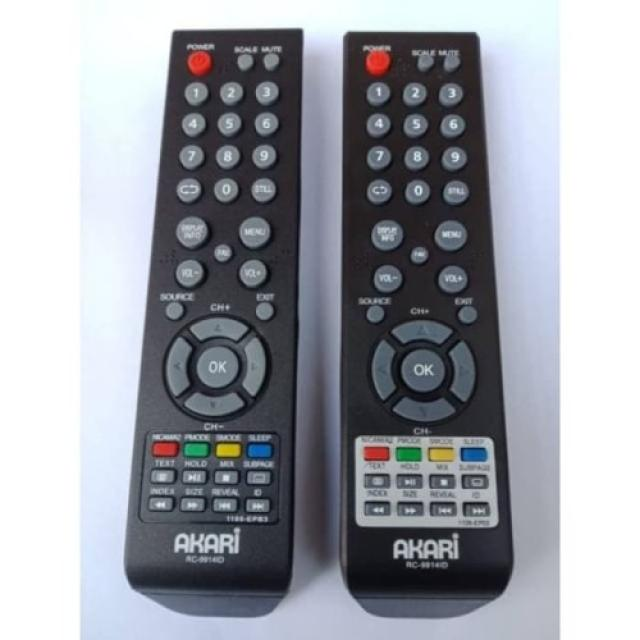remote: (119, 29, 302, 620), (339, 31, 518, 618)
